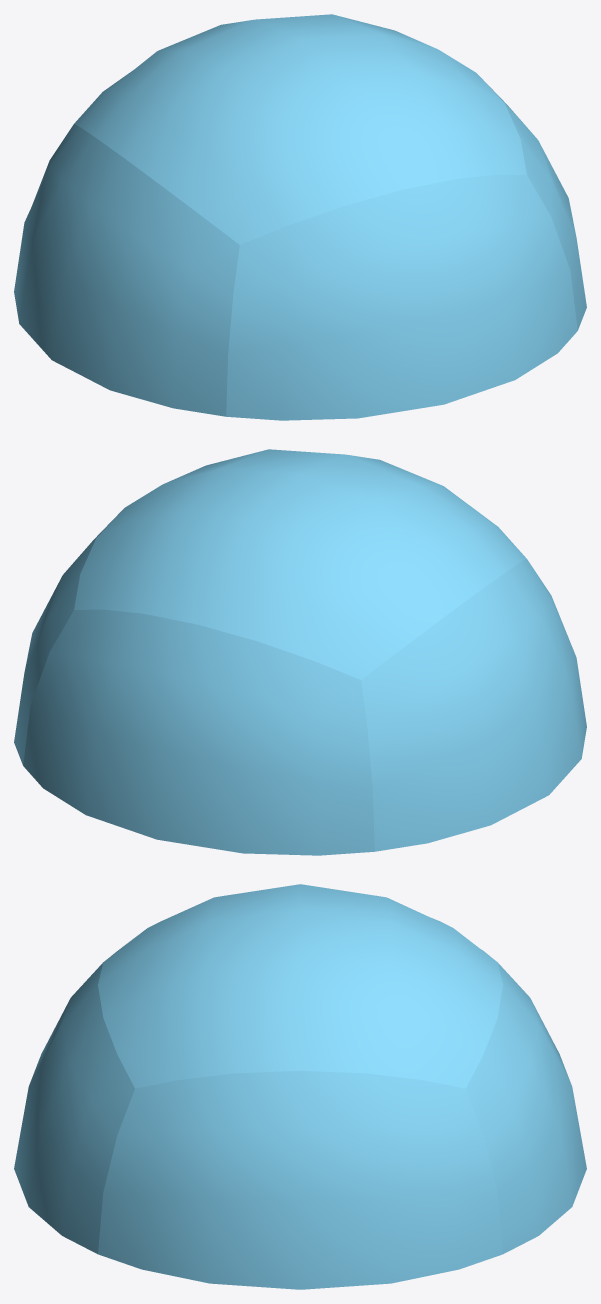
Rendered from Cupula.FBX.
3 renders of one model, top to bottom at view 1: azimuth 30°, elevation 25°; view 2: azimuth 150°, elevation 25°; view 3: azimuth 270°, elevation 25°, orthographic.
Visible parts, largest first — view 1: Cristal; view 2: Cristal; view 3: Cristal.
Boxes of the visible parts, x1,y1,x2,y2 form: Cristal: (14,14,586,420); Cristal: (14,449,586,855); Cristal: (14,884,586,1289).
Bounding box in the file's own units: 43.1 × 21.55 × 43.1.
